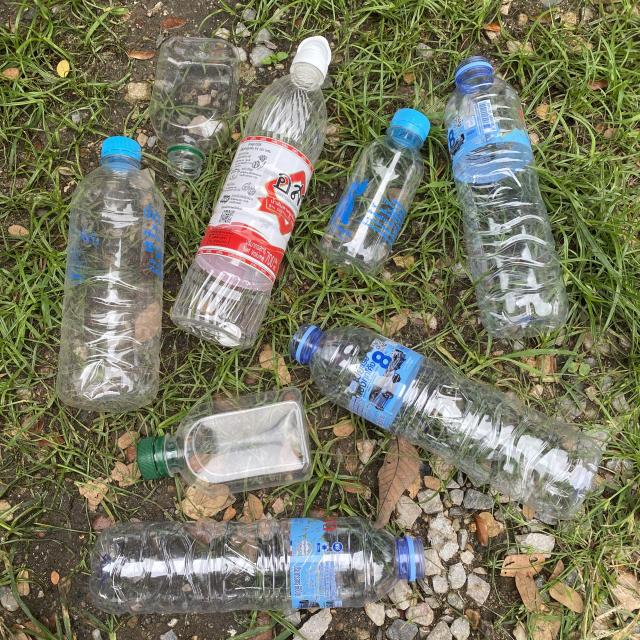plastik: (290, 324, 601, 520), (171, 36, 331, 349), (445, 58, 568, 339), (90, 518, 425, 614), (56, 138, 164, 412), (138, 388, 311, 495), (320, 109, 430, 276), (150, 36, 240, 179)
